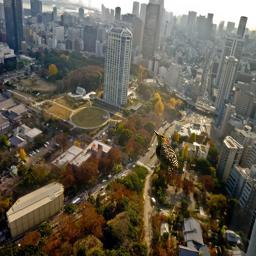Woodpecker: (153, 130, 178, 179)
